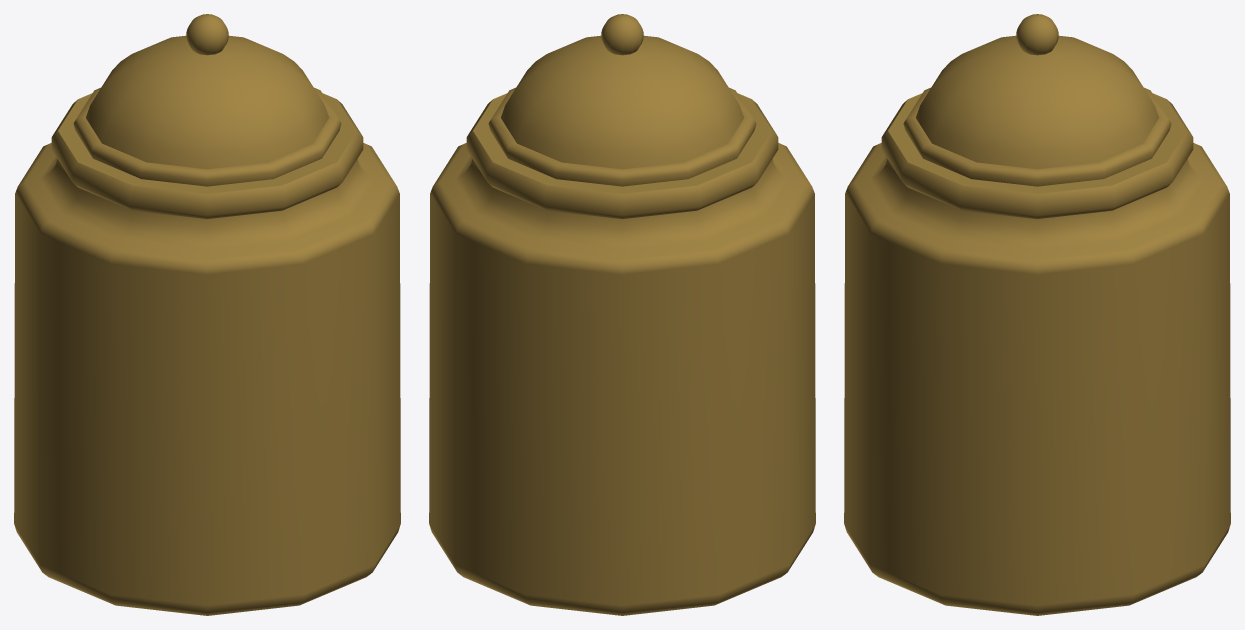
File: Cookie_jar_textures.fbx
3 views of the same model, side by side, from view 1: azimuth 30°, elevation 25°; view 2: azimuth 150°, elevation 25°; view 3: azimuth 270°, elevation 25° (orthographic).
Visible parts, largest first — view 1: Cookie_Jar_01, Cookie_Jar_02, Cookie_Jar_03; view 2: Cookie_Jar_01, Cookie_Jar_02, Cookie_Jar_03; view 3: Cookie_Jar_01, Cookie_Jar_02, Cookie_Jar_03.
Part boxes in pixels (x1,y1,x2,y2): Cookie_Jar_01: [14, 93, 400, 615]; Cookie_Jar_02: [73, 35, 341, 186]; Cookie_Jar_03: [186, 14, 228, 55]; Cookie_Jar_01: [429, 93, 815, 615]; Cookie_Jar_02: [488, 35, 756, 186]; Cookie_Jar_03: [601, 14, 643, 55]; Cookie_Jar_01: [844, 93, 1230, 615]; Cookie_Jar_02: [903, 35, 1171, 186]; Cookie_Jar_03: [1016, 14, 1058, 55].
Size of the model in its own units: 18.14 by 27.16 by 18.14.
